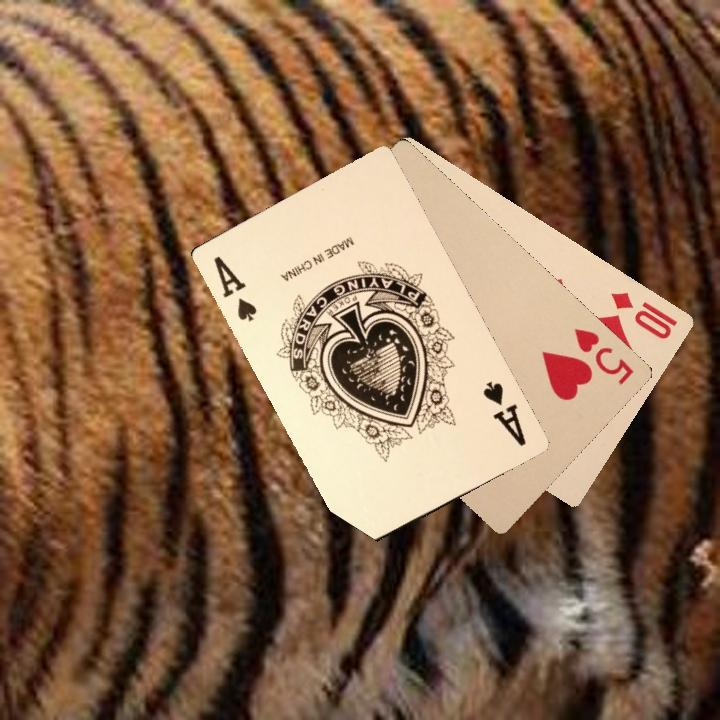10d: (606, 287, 680, 342)
5h: (569, 324, 637, 388)
As: (209, 252, 260, 324), (479, 377, 529, 449)
